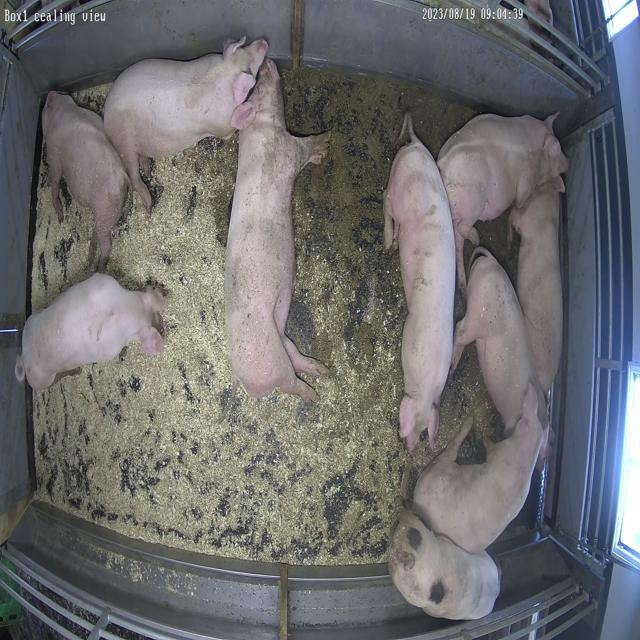Dirt: (282, 67, 473, 332), (477, 211, 521, 284), (212, 135, 237, 246), (310, 332, 337, 376), (358, 330, 378, 368)
Pig: (224, 59, 330, 403), (104, 37, 268, 208), (384, 115, 457, 454), (416, 384, 549, 554), (438, 113, 570, 282), (15, 273, 163, 392), (41, 91, 129, 270), (454, 247, 535, 432), (390, 513, 501, 620), (511, 191, 564, 392)
